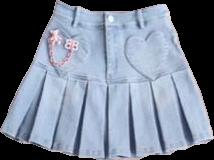Hemline: (0, 130, 213, 158)
Waistline: (33, 60, 189, 82), (51, 14, 171, 28), (57, 1, 164, 13)
